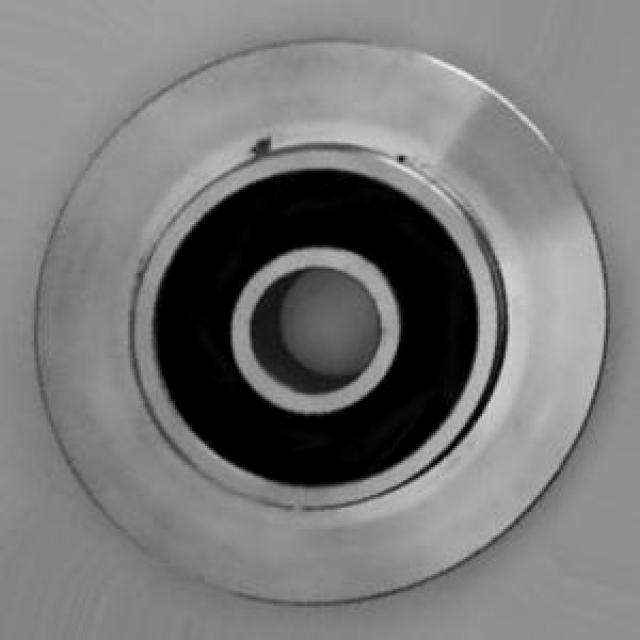Defect: (247, 132, 277, 160)
